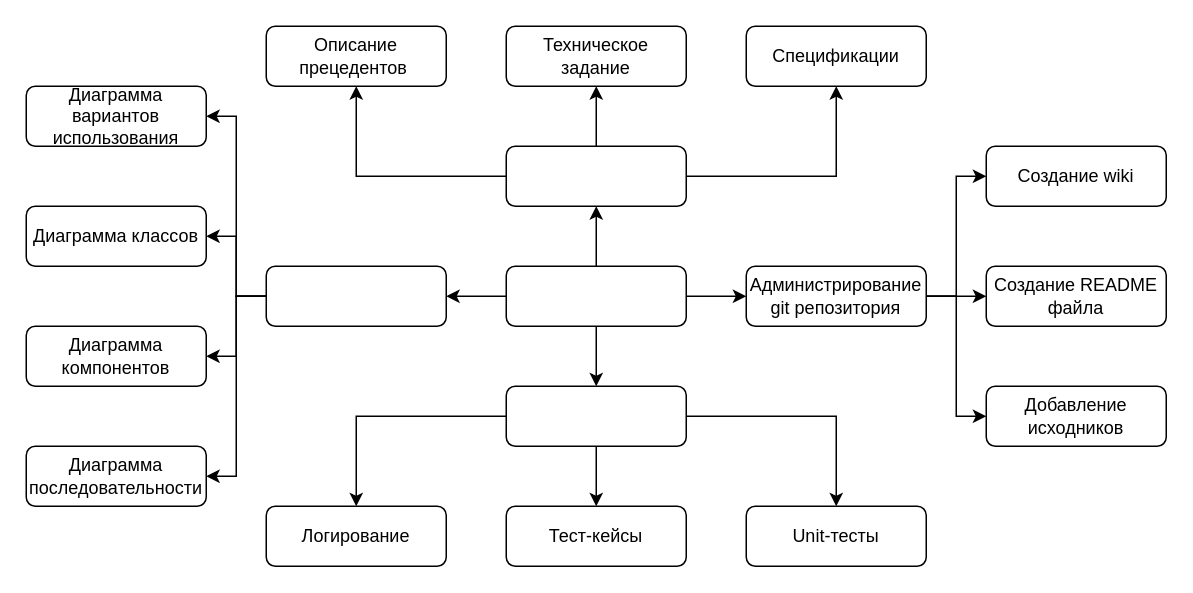
The diagram is 1193 pixels wide and 593 high, and some of its shapes have lost their labels. Here are the shapes that lost their labels. From the top down, the centre of each, then its label:
At pixel 595 175: "Разработка документации".
At pixel 355 295: "Построение диаграмм".
At pixel 595 295: "Реализация проекта".
At pixel 595 415: "Тестирование и отладка".
